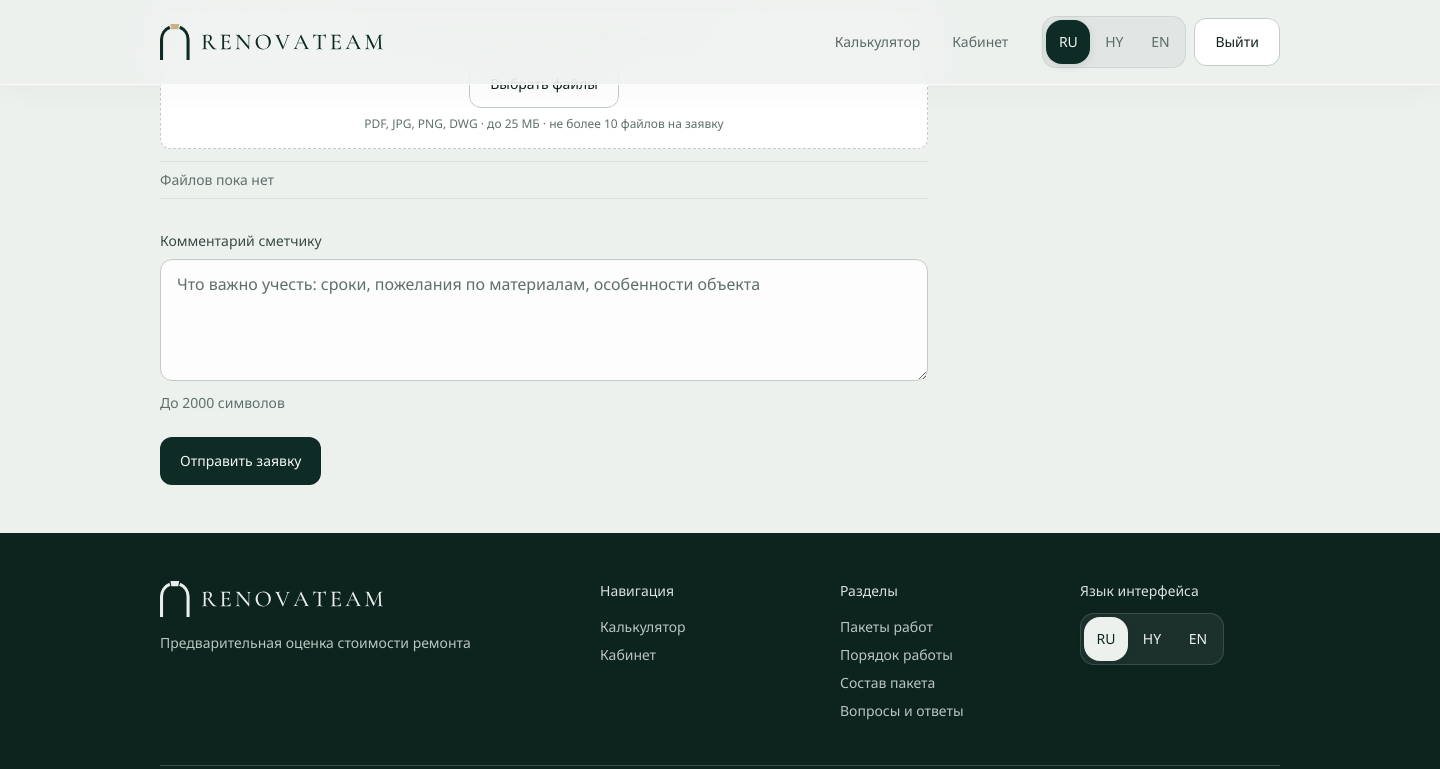
Scenario: estimate and request regressions › does not send a request without a property address
The width and height of the screenshot is (1440, 769).
(page scrolled)
What coordinates should you click on to do the following:
click the button "Отправить заявку"
I would click on:
 (241, 461)
Its box is [160,437,322,485].
(page scrolled)
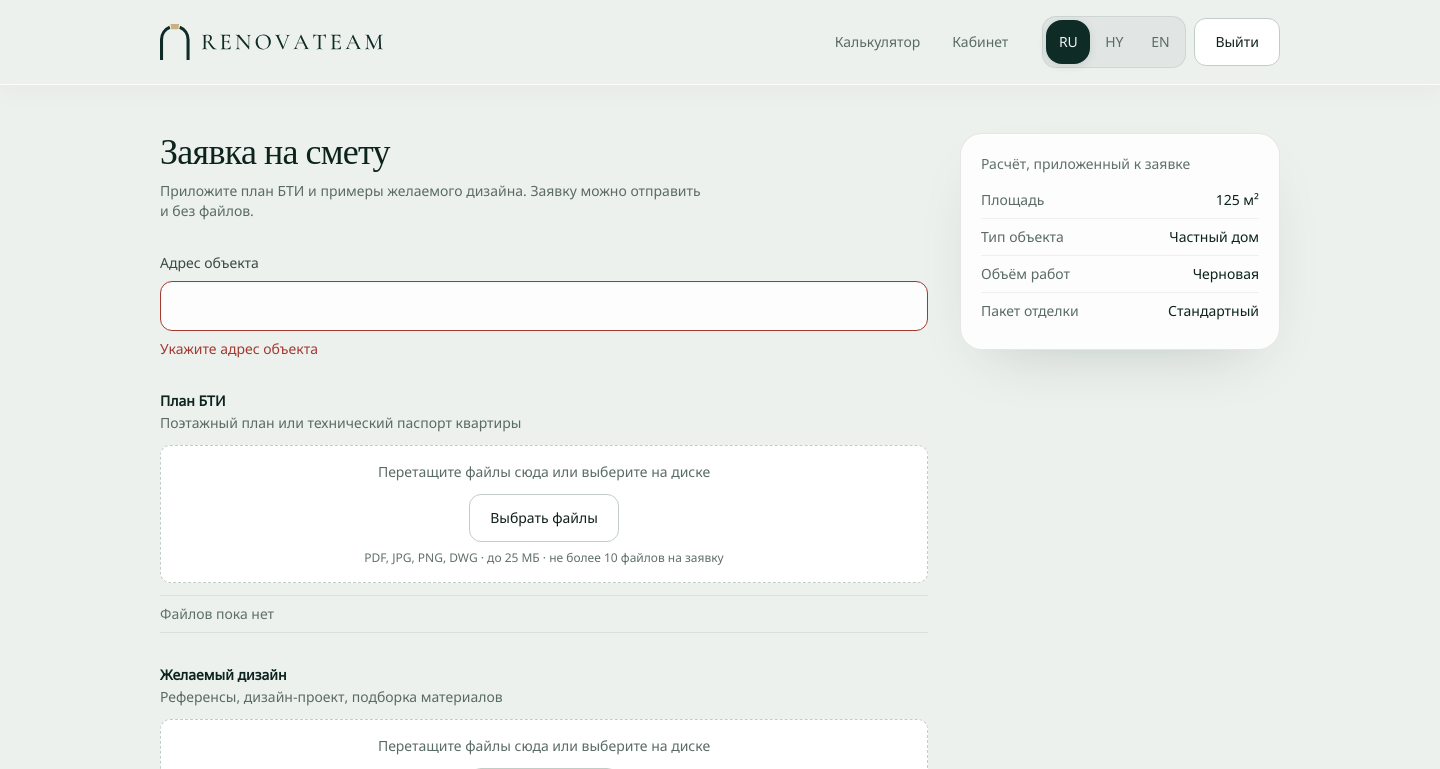
Expected: the text "Укажите адрес объекта" is shown, [160,339,318,358]
